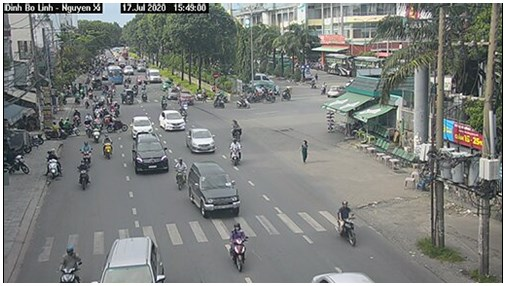di_bo: (300, 137, 310, 168)
xe_hoi: (189, 160, 240, 217), (133, 132, 168, 177), (186, 127, 218, 154), (130, 113, 156, 138), (160, 108, 185, 133)
xe_may: (336, 199, 360, 247), (229, 221, 248, 272), (59, 248, 83, 283), (47, 147, 63, 181), (103, 112, 128, 133), (174, 155, 187, 191), (78, 158, 91, 191), (229, 138, 242, 167), (101, 132, 115, 158), (79, 140, 95, 161), (231, 118, 242, 142)
